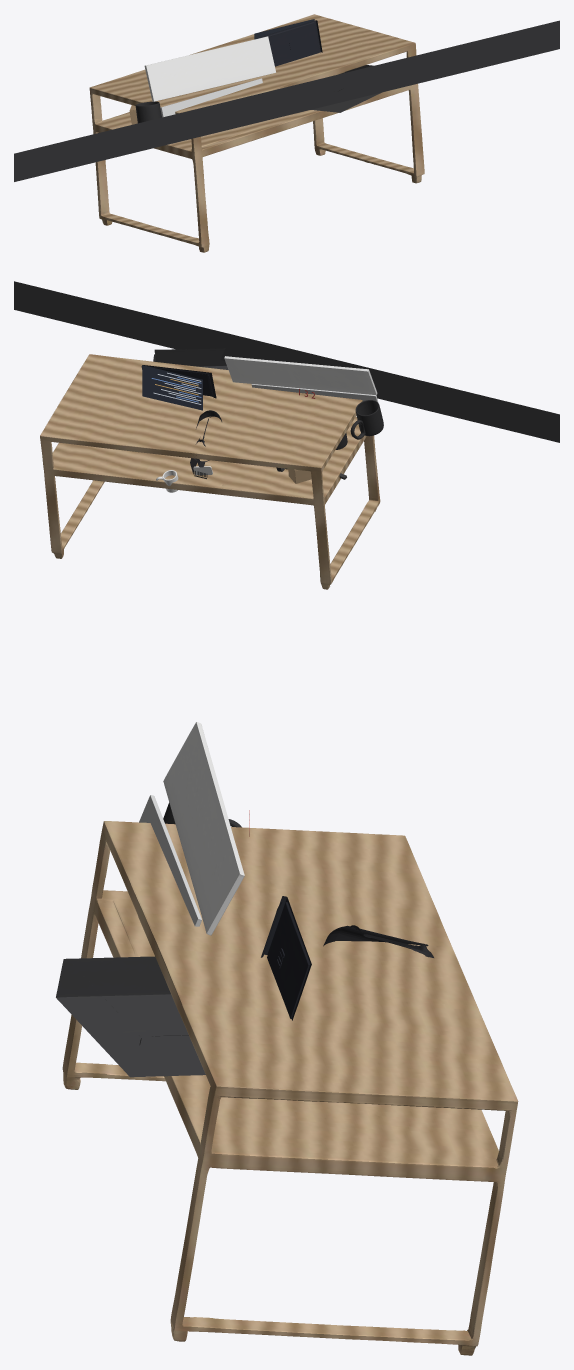
The model's file is viga.glb.
3 renders of one model, top to bottom at view 1: azimuth 30°, elevation 25°; view 2: azimuth 150°, elevation 25°; view 3: azimuth 270°, elevation 25°, orthographic. The views are drawn at different scales.
Parts seen in each view (by area): view 1: wooden_desk_mesh, BACKDROP_DARK, whiteboard_mesh, computer_monitor_mesh, wall_mesh, monitor_stand_mesh, partial_black_mug_mesh; view 2: wooden_desk_mesh, BACKDROP_DARK, whiteboard_mesh, MON_ROWS, monitor_stand_mesh, partial_black_mug_mesh, wall_mesh, computer_monitor_mesh; view 3: wooden_desk_mesh, monitor_stand_mesh, whiteboard_mesh, computer_monitor_mesh, wall_mesh, black_espresso_machine_mesh.
Part boxes in pixels (<box>): wooden_desk_mesh: <box>89,14,424,252</box>; BACKDROP_DARK: <box>14,20,559,181</box>; whiteboard_mesh: <box>144,36,275,101</box>; computer_monitor_mesh: <box>259,20,322,66</box>; wall_mesh: <box>160,78,262,117</box>; monitor_stand_mesh: <box>311,65,381,112</box>; partial_black_mug_mesh: <box>135,101,161,123</box>; wooden_desk_mesh: <box>40,354,380,589</box>; BACKDROP_DARK: <box>14,281,559,442</box>; whiteboard_mesh: <box>224,356,377,395</box>; MON_ROWS: <box>142,365,202,410</box>; monitor_stand_mesh: <box>153,348,228,369</box>; partial_black_mug_mesh: <box>350,400,383,439</box>; wall_mesh: <box>251,384,378,415</box>; computer_monitor_mesh: <box>141,365,216,398</box>; wooden_desk_mesh: <box>62,821,518,1355</box>; monitor_stand_mesh: <box>56,956,205,1077</box>; whiteboard_mesh: <box>163,722,244,935</box>; computer_monitor_mesh: <box>261,896,311,1020</box>; wall_mesh: <box>139,795,201,926</box>; black_espresso_machine_mesh: <box>323,925,433,957</box>.
Bounding box in the file's own units: 6.4 × 2.22 × 2.35.
19 materials, 1 textured.
